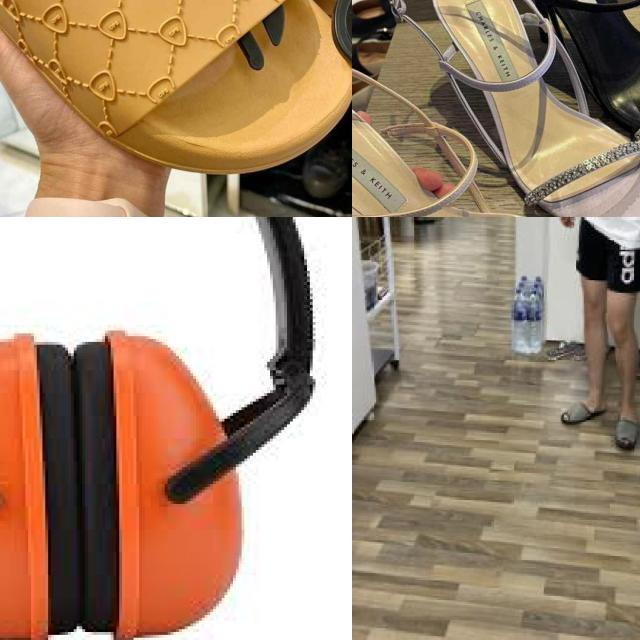Ear-protection: (74, 325, 244, 638), (0, 330, 73, 640)
Sandals: (0, 0, 352, 182), (375, 0, 640, 217), (352, 39, 640, 217), (459, 0, 640, 189), (550, 384, 611, 434), (609, 396, 640, 463)
